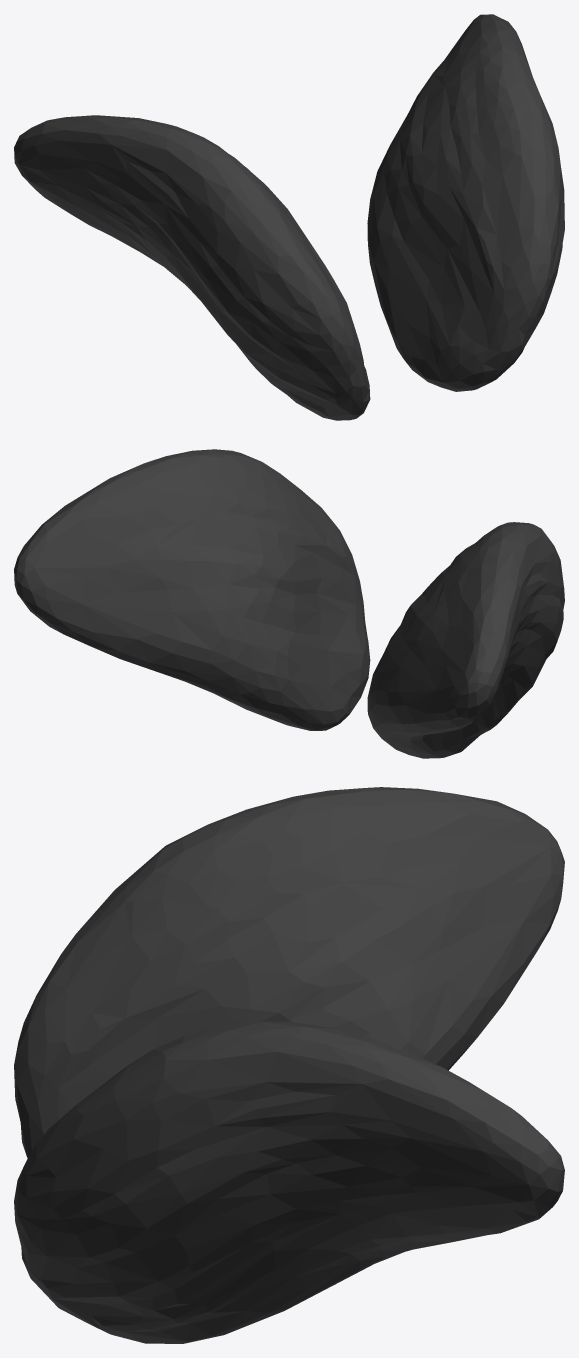
Rendered from m_pterygoid_lat.glb.
The picture shows the model from 3 angles, top to bottom: view 1: azimuth 30°, elevation 25°; view 2: azimuth 150°, elevation 25°; view 3: azimuth 270°, elevation 25°; orthographic projection. The views are drawn at different scales.
Visible parts, largest first — view 1: m_pterygoid_lat; view 2: m_pterygoid_lat; view 3: m_pterygoid_lat.
Part boxes in pixels (bbox=[...]): m_pterygoid_lat: bbox=[14, 14, 564, 420]; m_pterygoid_lat: bbox=[14, 449, 564, 758]; m_pterygoid_lat: bbox=[14, 787, 564, 1343].
Size of the model in its own units: 0.00184 by 0.00101 by 0.0013.
Materials: 1 (1 with a texture image).
